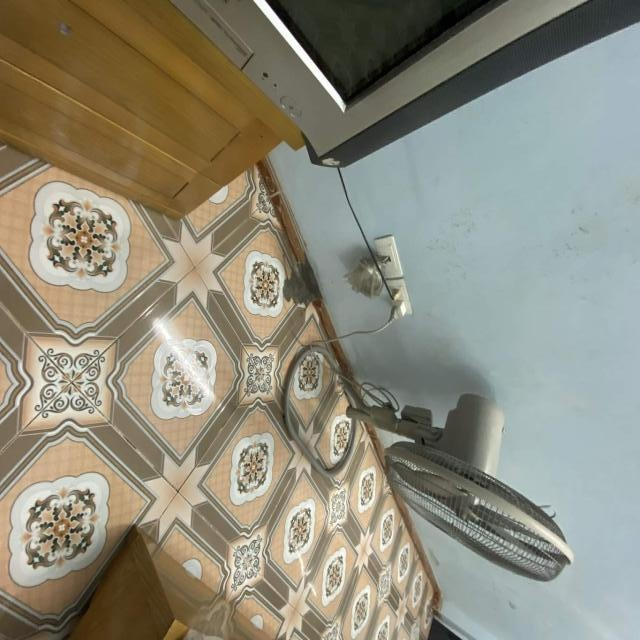outlet: (374, 234, 404, 278), (385, 279, 413, 316)
